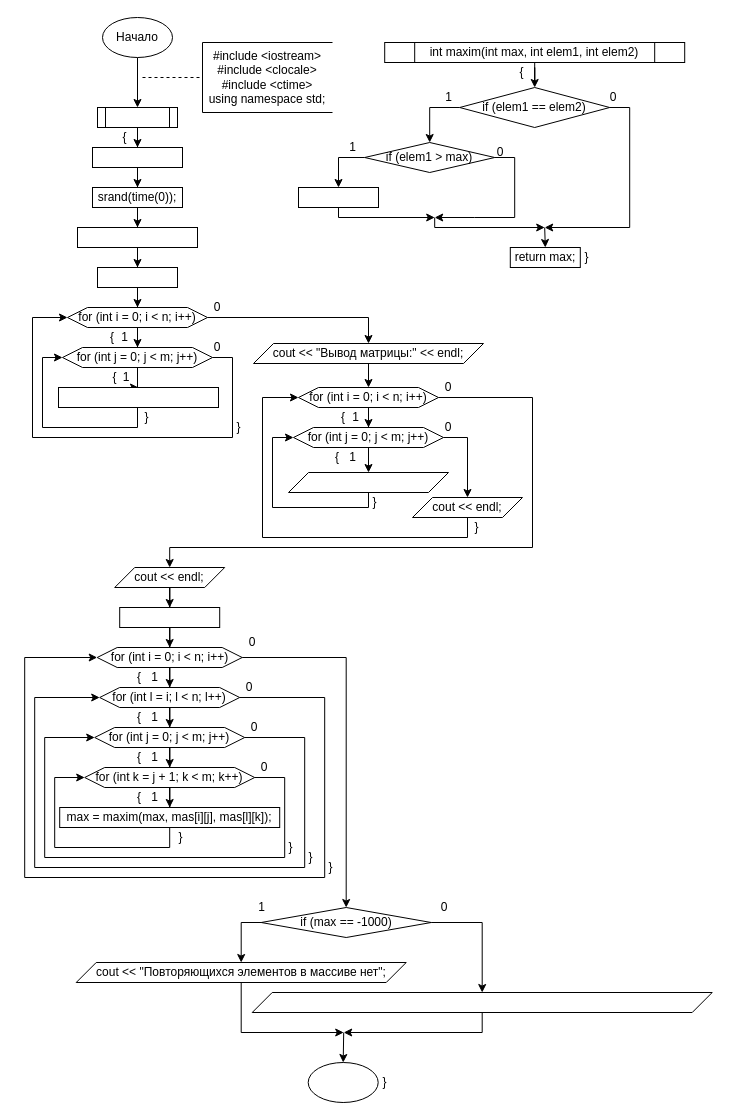
The diagram is 730 pixels wide and 1120 high, and some of its shapes have lost their labels. Here are the shapes that lost their labels. From the top down, the box of each, then its label:
(96, 106, 178, 128): int main()
(92, 146, 182, 168): setlocale(0, "");
(298, 186, 378, 208): max = elem1;
(76, 226, 198, 248): const int n = 7, m = 9;
(96, 266, 178, 288): int mas[n][m];
(58, 386, 218, 408): mas[i][j] = rand() % 100 - 50;
(288, 472, 448, 492): cout << mas[i][j] << ' ';
(119, 606, 220, 628): int max = -1000;
(251, 992, 712, 1012): cout << "Максимальный из повторяющихся элементов массива = " << max;
(307, 1062, 378, 1102): return 0;
